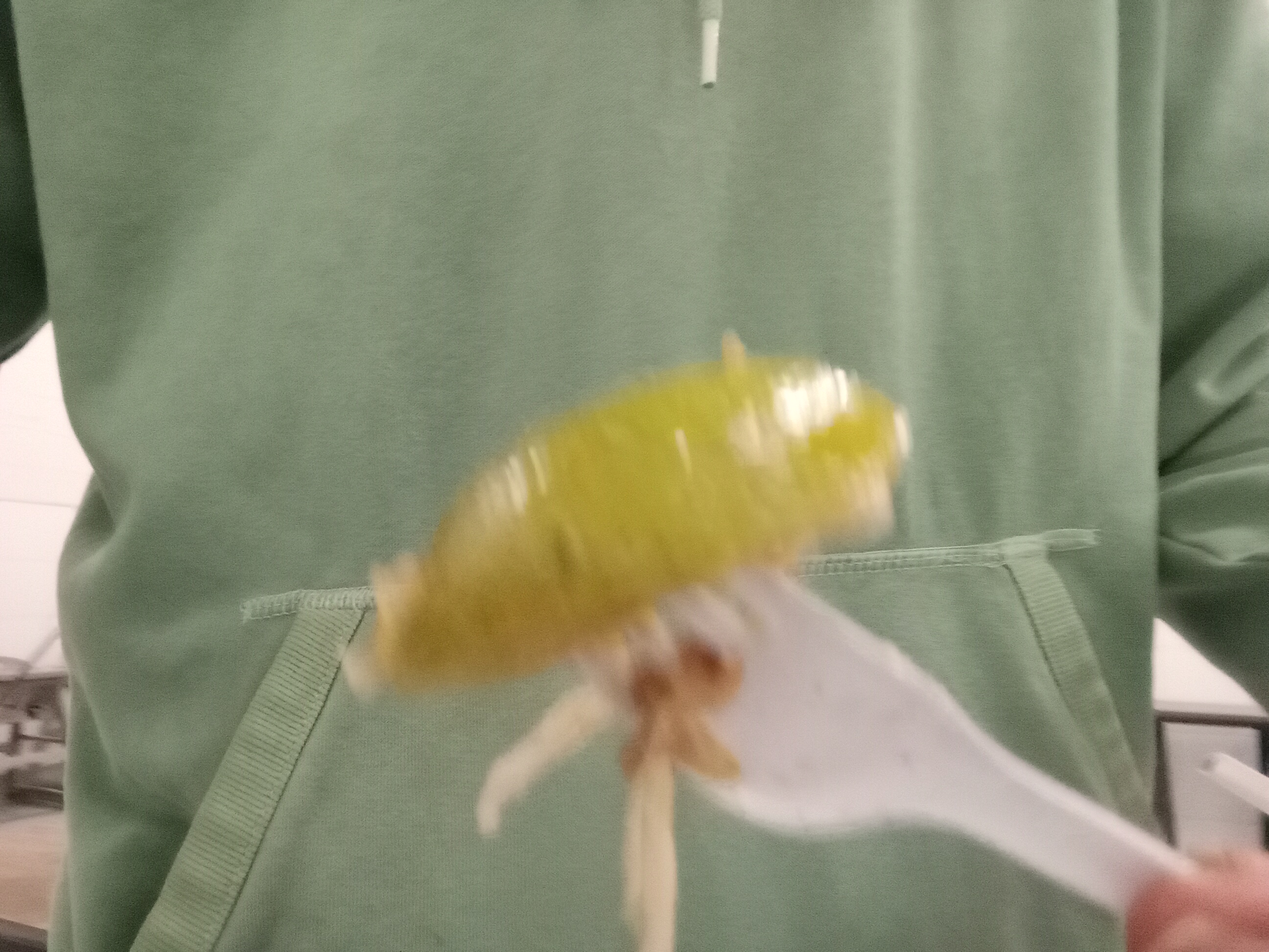Organico: (369, 355, 917, 693)
